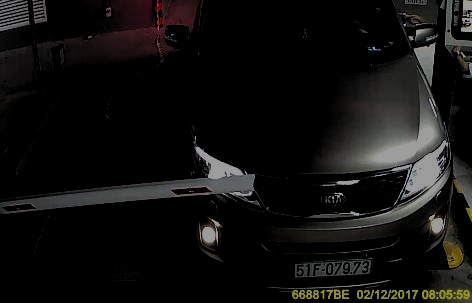plate: (293, 255, 371, 277)
